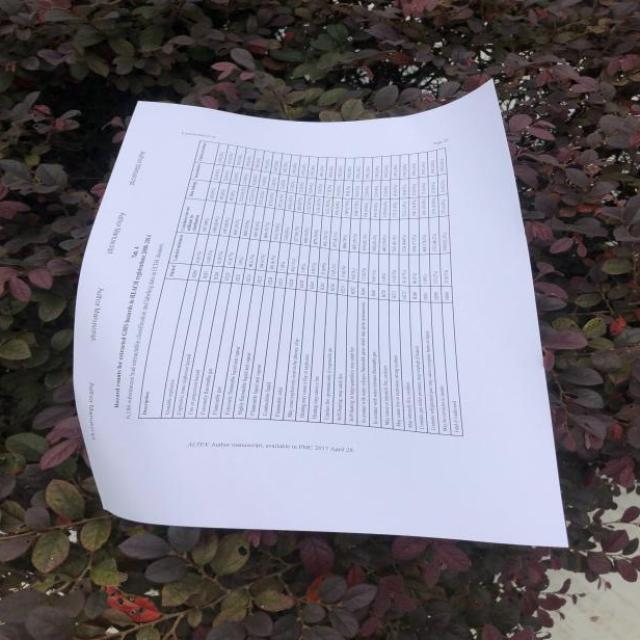kertas: (57, 78, 567, 575)
